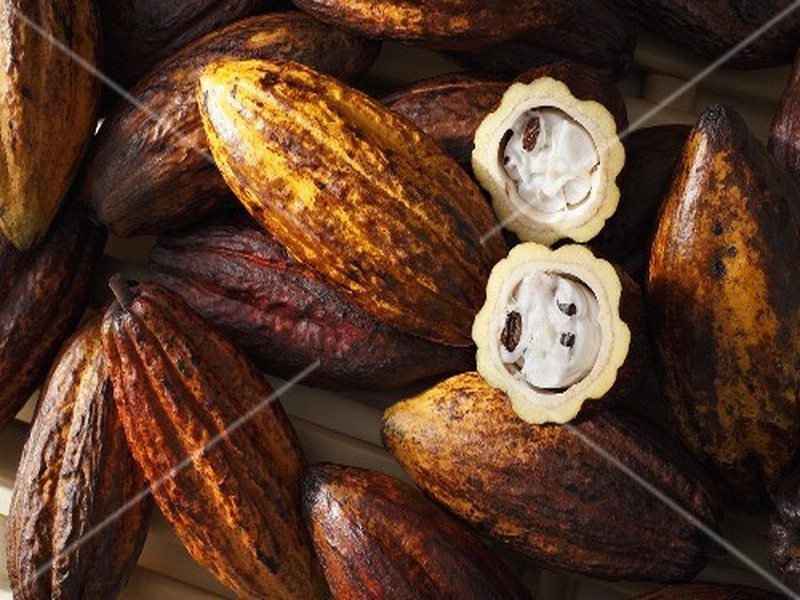Cacaopod: (195, 57, 505, 347)
